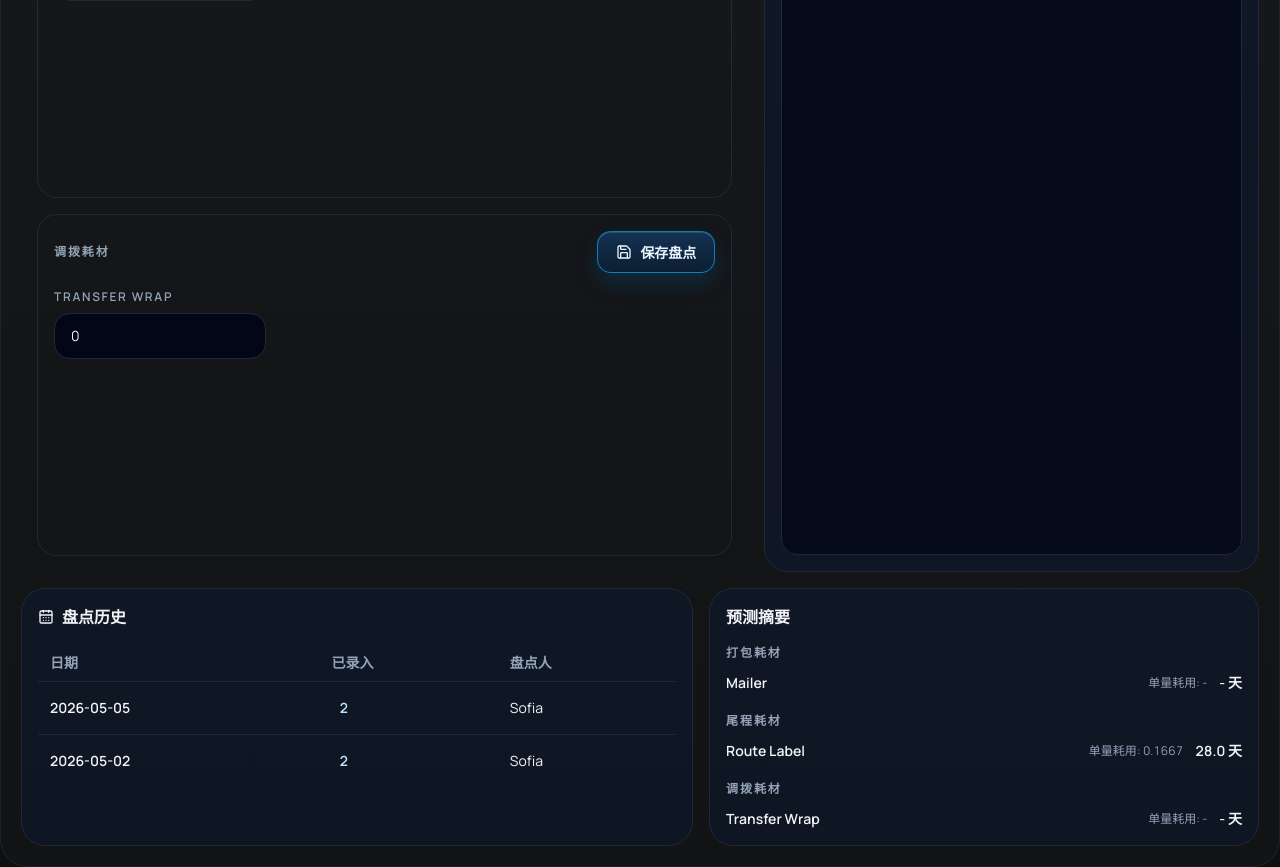
Test: ConsumablesWorkspace › opens snapshot change details from entered count
(page scrolled)
Step 1. Click the 1st button "2" → (344, 708), box [332,694,356,722]
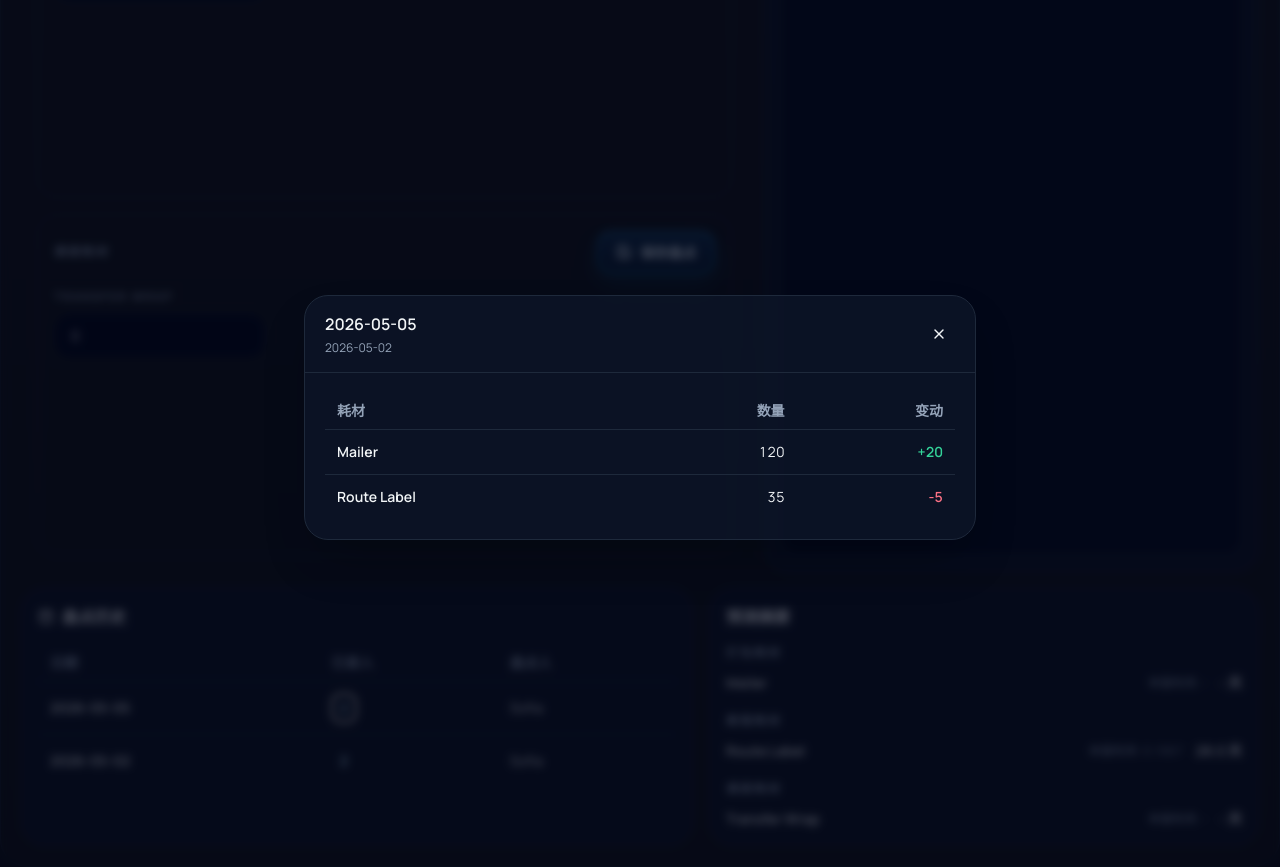
Expected: the text "2026-05-05" is shown, [325,312,417,336]
Expected: the text "Mailer" is shown, [337,442,378,460]
Expected: the text "Route Label" is shown, [337,486,416,506]
